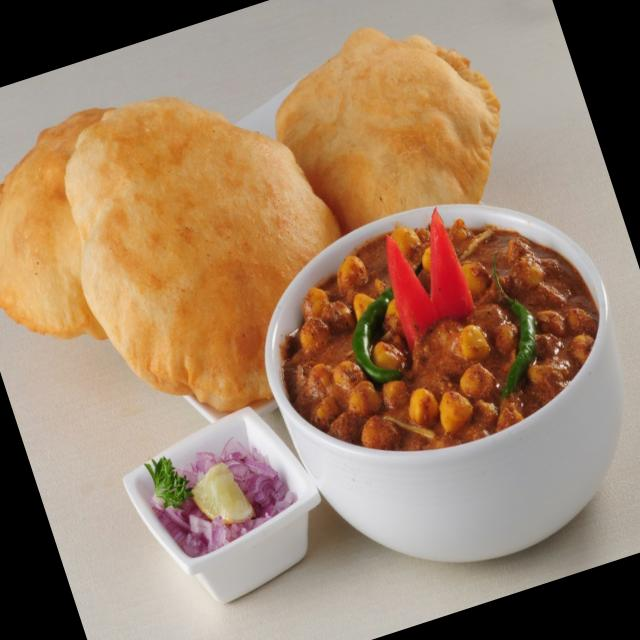Bhatura: (0, 46, 383, 472), (242, 0, 525, 257)
Chole: (257, 171, 615, 490)
